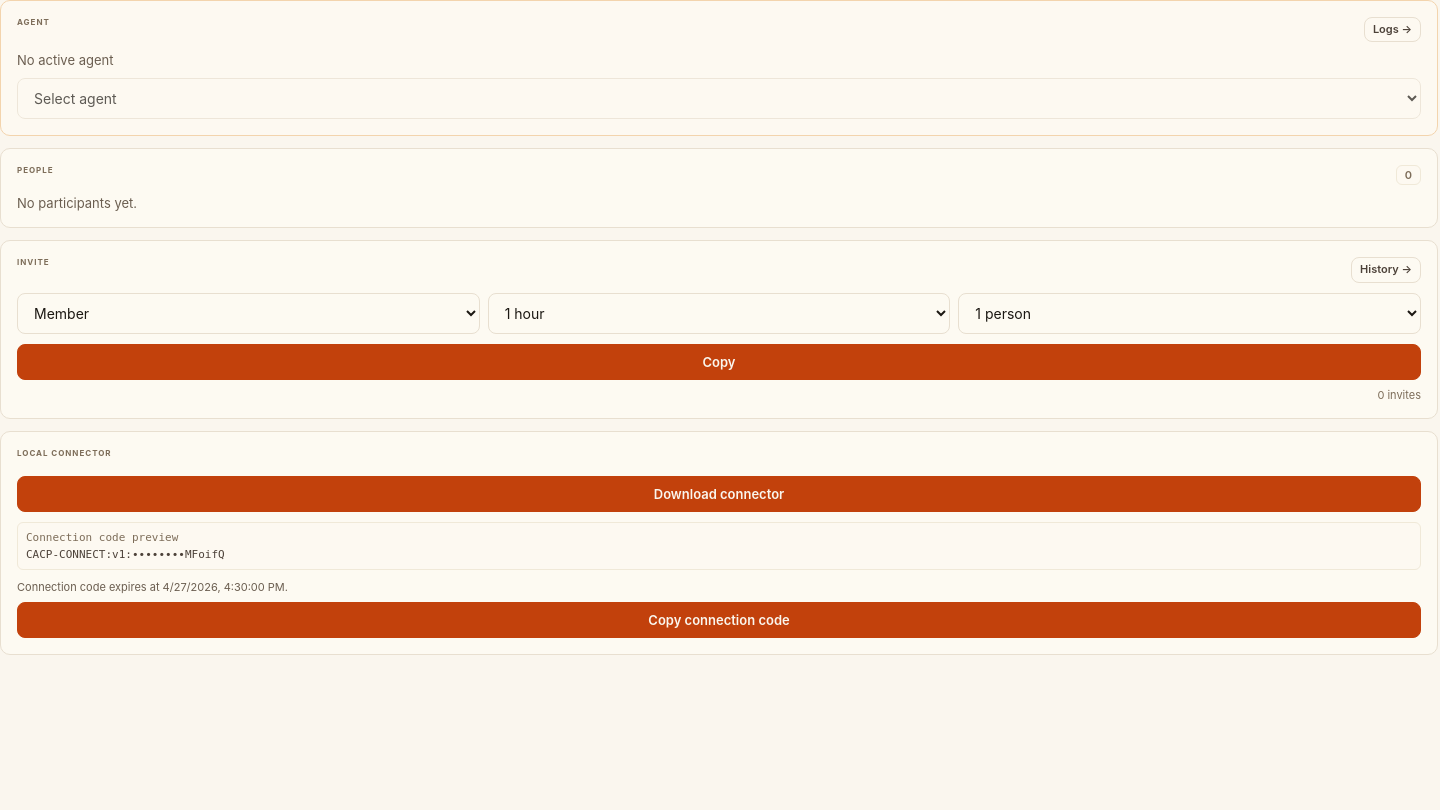
Test: cloud connector UI › copies the full connector code and shows copied feedback
Step 1. Click the button "Copy connection code" → (719, 620), box [17, 602, 1421, 638]
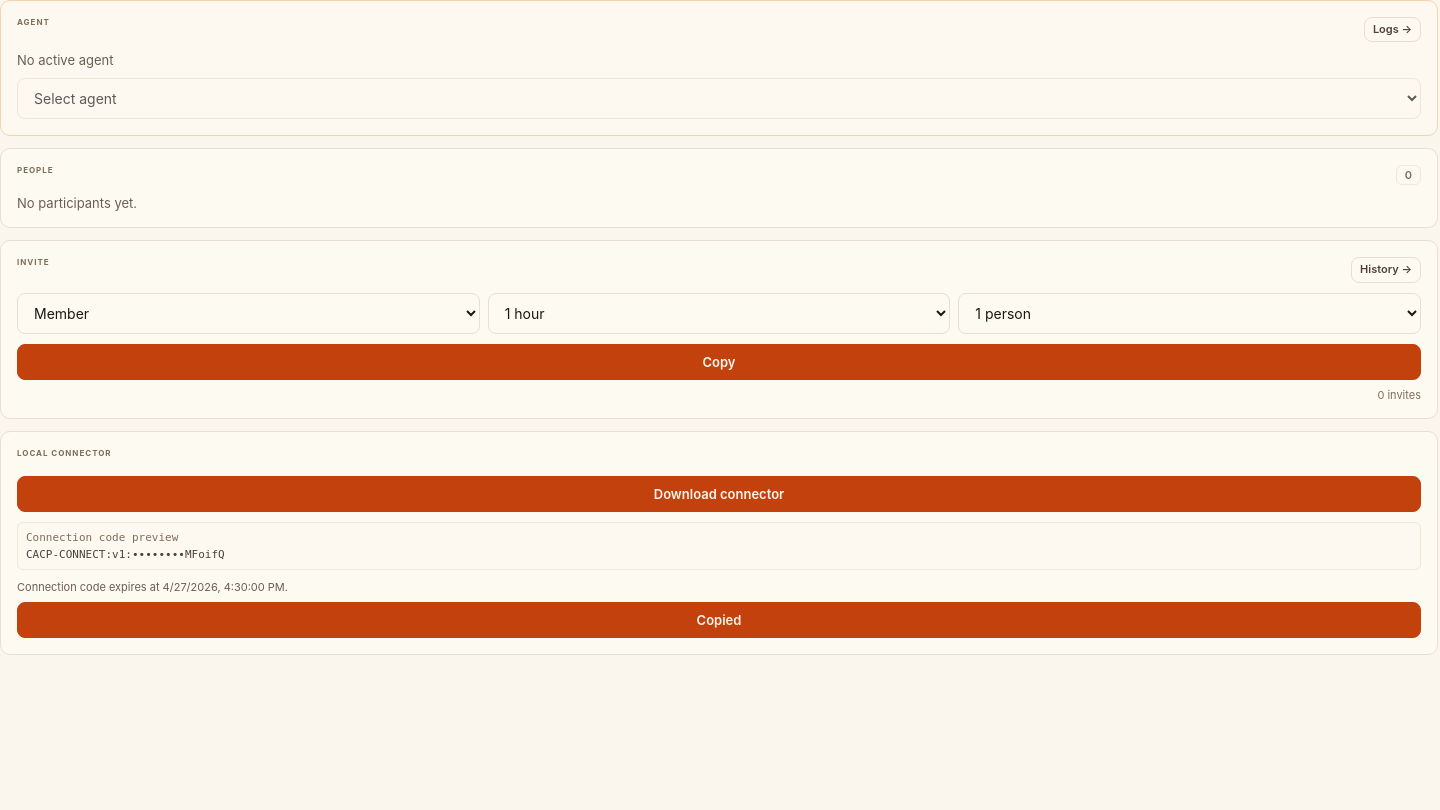
Expected: the button "Copied" is shown, [17, 602, 1421, 638]
